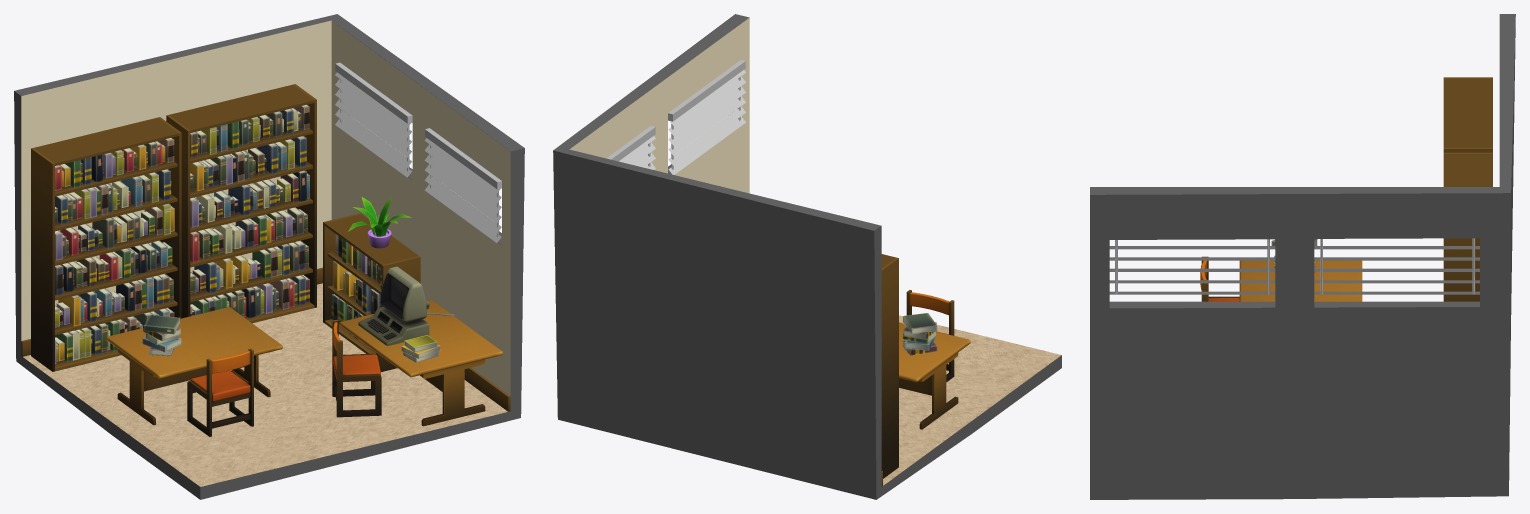
File: RetroLibrary-transformed.glb
The picture shows the model from 3 angles, left to right: view 1: azimuth 30°, elevation 25°; view 2: azimuth 150°, elevation 25°; view 3: azimuth 270°, elevation 25°; orthographic projection. The views are drawn at different scales.
Parts seen in each view (by area): view 1: Object_5, Object_8, Object_14, Object_3, Object_13, Object_15, Object_7, Object_11, Object_12, Object_4; view 2: Object_13, Object_5, Object_3, Object_7, Object_14, Object_15, Object_8, Object_11; view 3: Object_13, Object_14, Object_7, Object_15, Object_11.
Part boxes in pixels (bbox=[...]): Object_5: bbox=[21, 20, 510, 395]; Object_8: bbox=[55, 104, 440, 363]; Object_14: bbox=[21, 84, 510, 411]; Object_3: bbox=[23, 283, 507, 486]; Object_13: bbox=[14, 14, 524, 499]; Object_15: bbox=[106, 300, 502, 426]; Object_7: bbox=[335, 62, 501, 242]; Object_11: bbox=[187, 320, 381, 436]; Object_12: bbox=[358, 266, 429, 345]; Object_4: bbox=[348, 196, 411, 248]; Object_13: bbox=[553, 14, 1061, 499]; Object_5: bbox=[569, 18, 749, 193]; Object_3: bbox=[883, 315, 1061, 485]; Object_7: bbox=[606, 60, 745, 174]; Object_14: bbox=[881, 254, 898, 486]; Object_15: bbox=[899, 322, 970, 429]; Object_8: bbox=[902, 313, 937, 355]; Object_11: bbox=[906, 290, 954, 382]; Object_13: bbox=[1090, 14, 1515, 499]; Object_14: bbox=[1443, 77, 1492, 301]; Object_7: bbox=[1109, 238, 1479, 294]; Object_15: bbox=[1239, 260, 1362, 301]; Object_11: bbox=[1200, 256, 1239, 301].
Bounding box in the file's own units: 261 × 210 × 260.
Materials: 11 (7 with a texture image).
